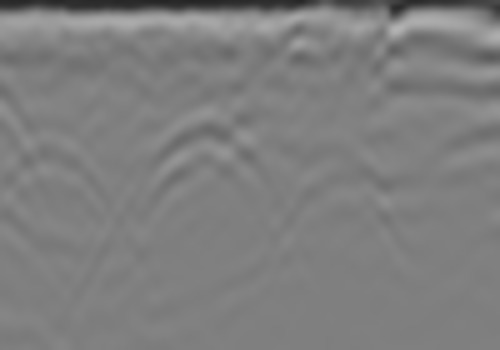hyperbola: (98, 106, 301, 270), (261, 153, 427, 276), (5, 125, 143, 262)
